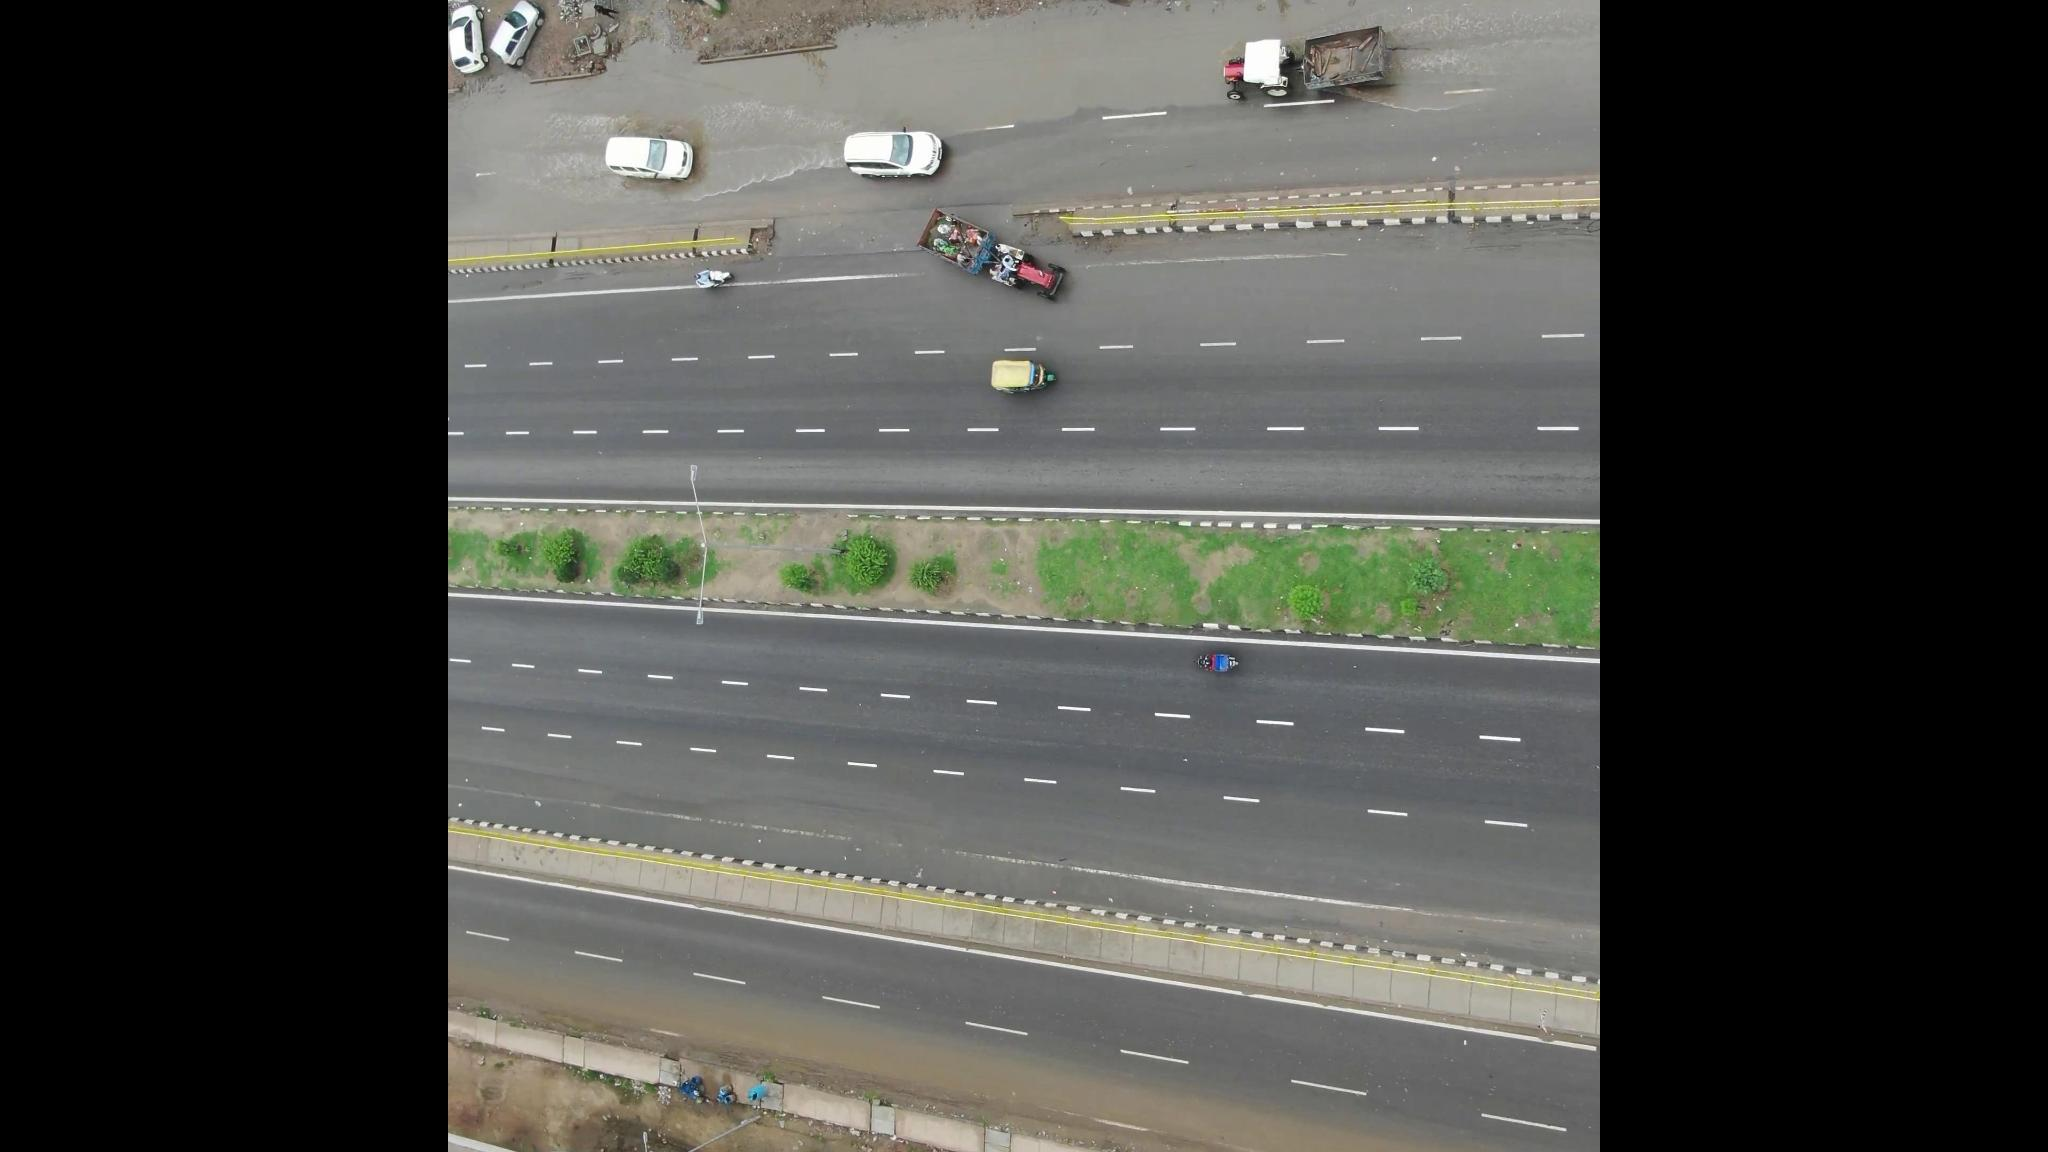Muddy_road: (748, 1025, 930, 1115), (557, 987, 731, 1069), (952, 1054, 1092, 1146), (1117, 1089, 1318, 1152), (1345, 1129, 1591, 1152)
Waterlogging: (488, 37, 944, 235), (1030, 6, 1236, 124), (1395, 1, 1585, 66)
